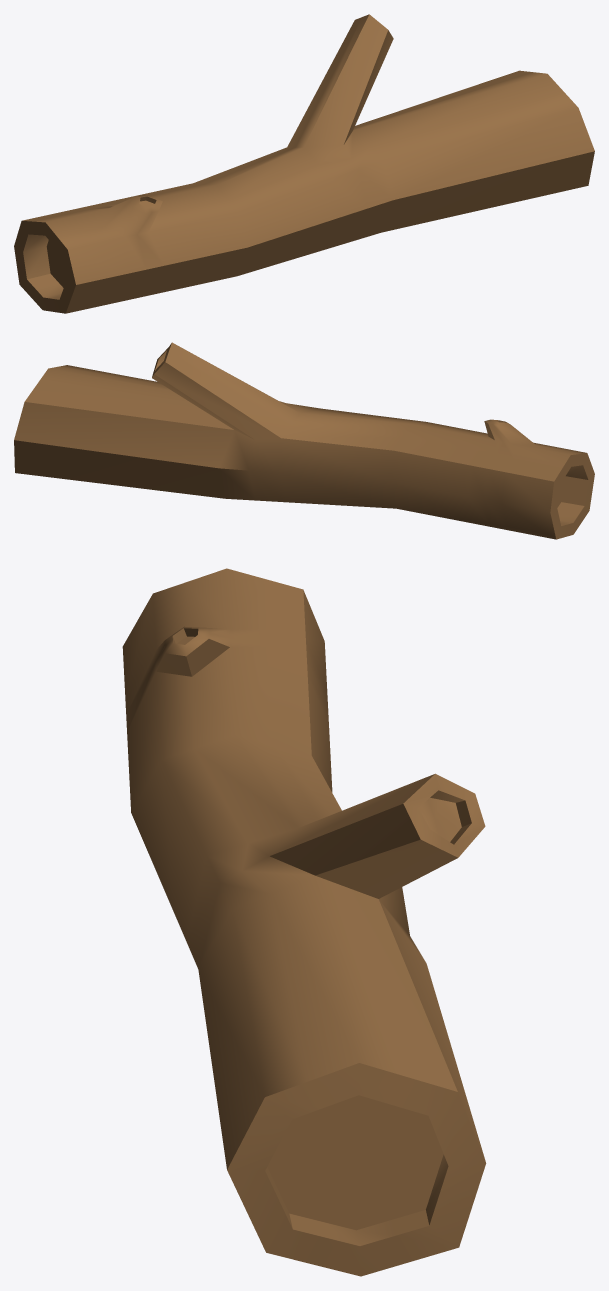
The picture shows the model from 3 angles, top to bottom: view 1: azimuth 30°, elevation 25°; view 2: azimuth 150°, elevation 25°; view 3: azimuth 270°, elevation 25°; orthographic projection. The views are drawn at different scales.
Visible parts, largest first — view 1: default7_Material_0; view 2: default7_Material_0; view 3: default7_Material_0.
Part boxes in pixels (x1,y1,x2,y2): default7_Material_0: (14,14,594,313); default7_Material_0: (14,342,594,539); default7_Material_0: (122,568,486,1276).
Bounding box in the file's own units: 0.0614 × 0.0203 × 0.019.
1 material, 1 textured.
